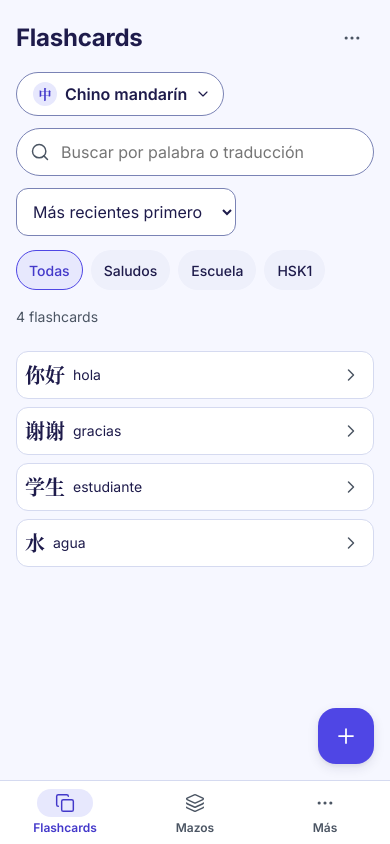
Scenario: F02 · Selección múltiple › en mobile "Seleccionar" está en el menú de más acciones
Expected: the link "你好 hola" is shown, left=16, top=351, right=374, bottom=399
What coordinates should you click on to do the following:
click the button named "Más acciones"
I would click on:
 (352, 38)
Its box is left=330, top=16, right=374, bottom=60.
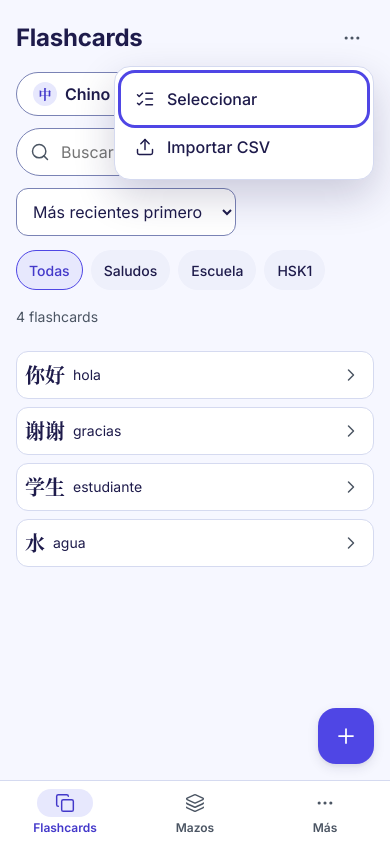
What coordinates should you click on to do the following:
click the menu item "Seleccionar"
I would click on:
 (244, 99)
Its box is left=123, top=75, right=365, bottom=123.
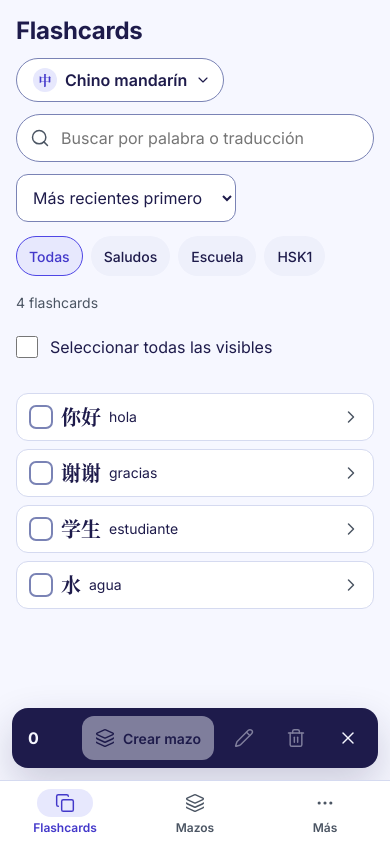
Expected: the element named "Acciones sobre la selección" is shown, left=12, top=708, right=378, bottom=768
